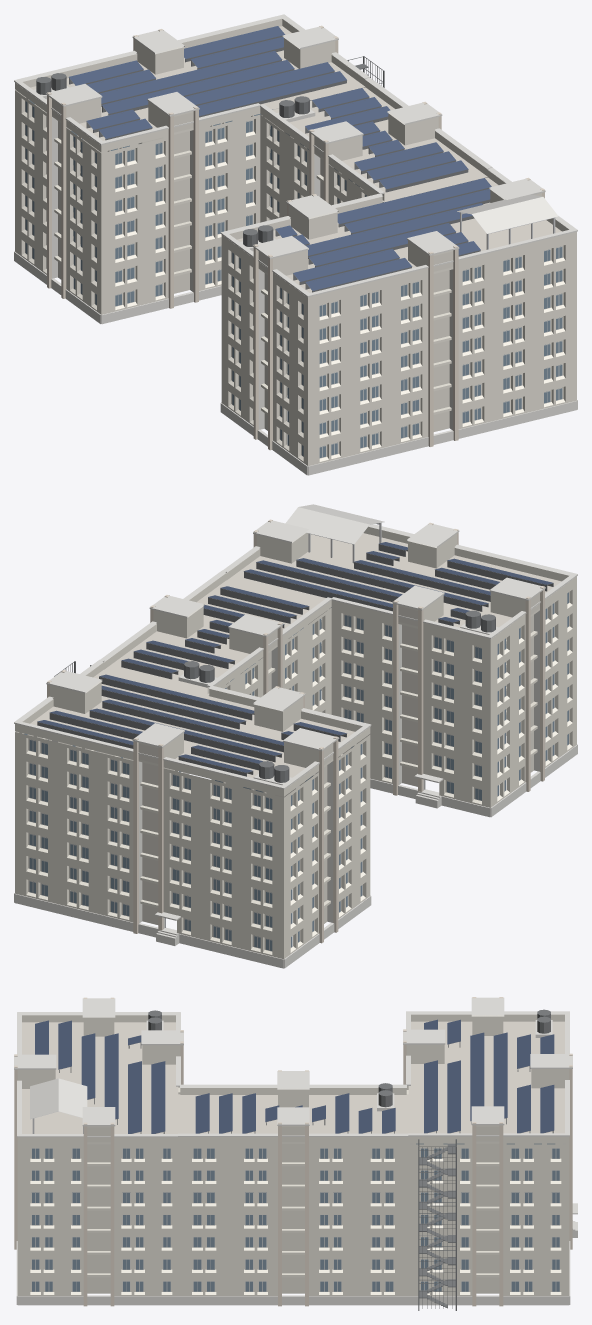
The model's file is Sindhu_Hostel_B.fbx.
The picture shows the model from 3 angles, top to bottom: view 1: azimuth 30°, elevation 25°; view 2: azimuth 150°, elevation 25°; view 3: azimuth 270°, elevation 25°; orthographic projection. The views are drawn at different scales.
Parts seen in each view (by area): view 1: Sindhu_Hostel_B; view 2: Sindhu_Hostel_B; view 3: Sindhu_Hostel_B.
Boxes of the visible parts, x1,y1,x2,y2 form: Sindhu_Hostel_B: (14,14,577,475); Sindhu_Hostel_B: (14,504,577,968); Sindhu_Hostel_B: (14,997,577,1310).
Bounding box in the file's own units: 44.18 × 28.82 × 78.3.
